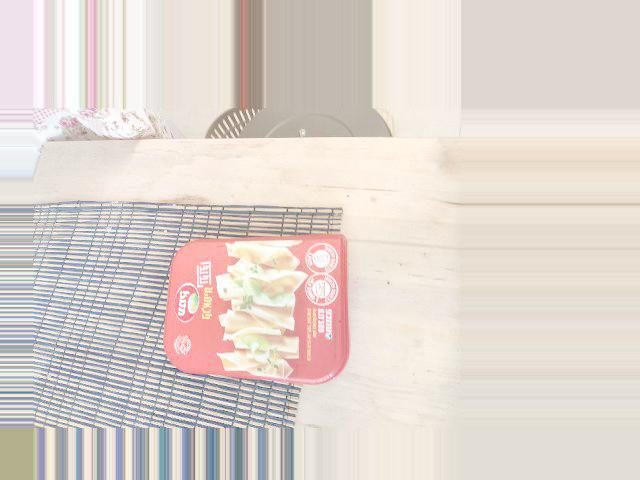cheese: (78, 232, 202, 423)
